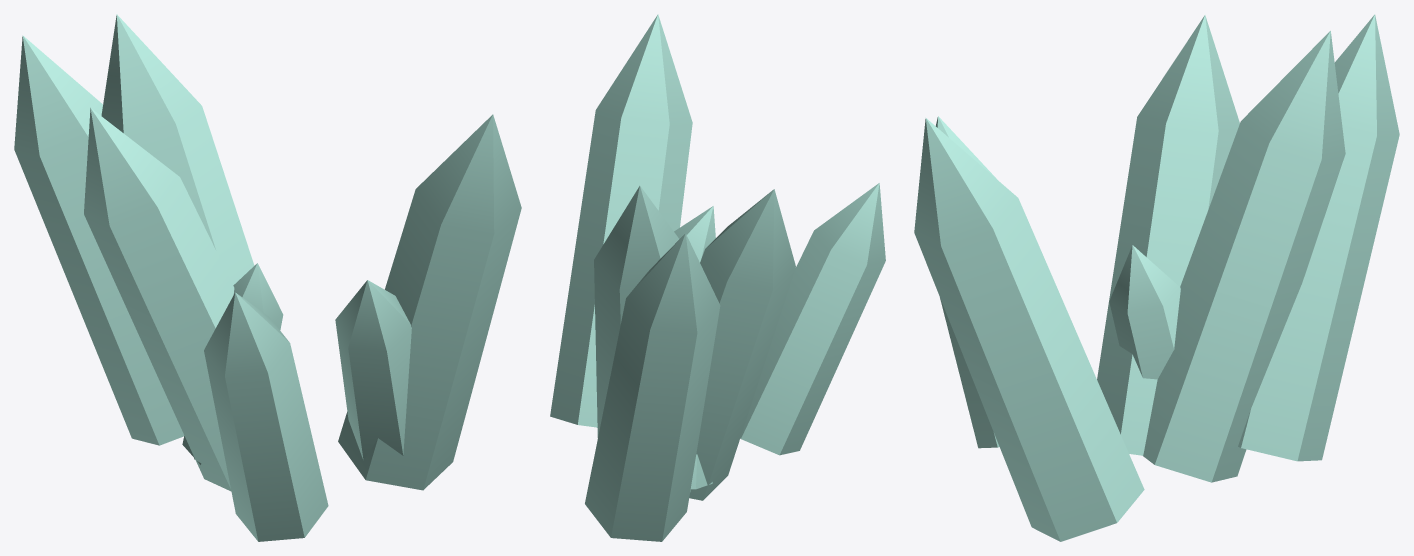
File: ore_crystals.glb
The picture shows the model from 3 angles, left to right: view 1: azimuth 30°, elevation 25°; view 2: azimuth 150°, elevation 25°; view 3: azimuth 270°, elevation 25°; orthographic projection. The views are drawn at different scales.
Visible parts, largest first — view 1: ore_crystals; view 2: ore_crystals; view 3: ore_crystals.
Boxes of the visible parts, box(x1,y1,x2,y2) form: ore_crystals: box(14, 14, 521, 541); ore_crystals: box(550, 14, 885, 541); ore_crystals: box(914, 14, 1399, 541).
Size of the model in its own units: 0.8063 by 1.04 by 1.09.
